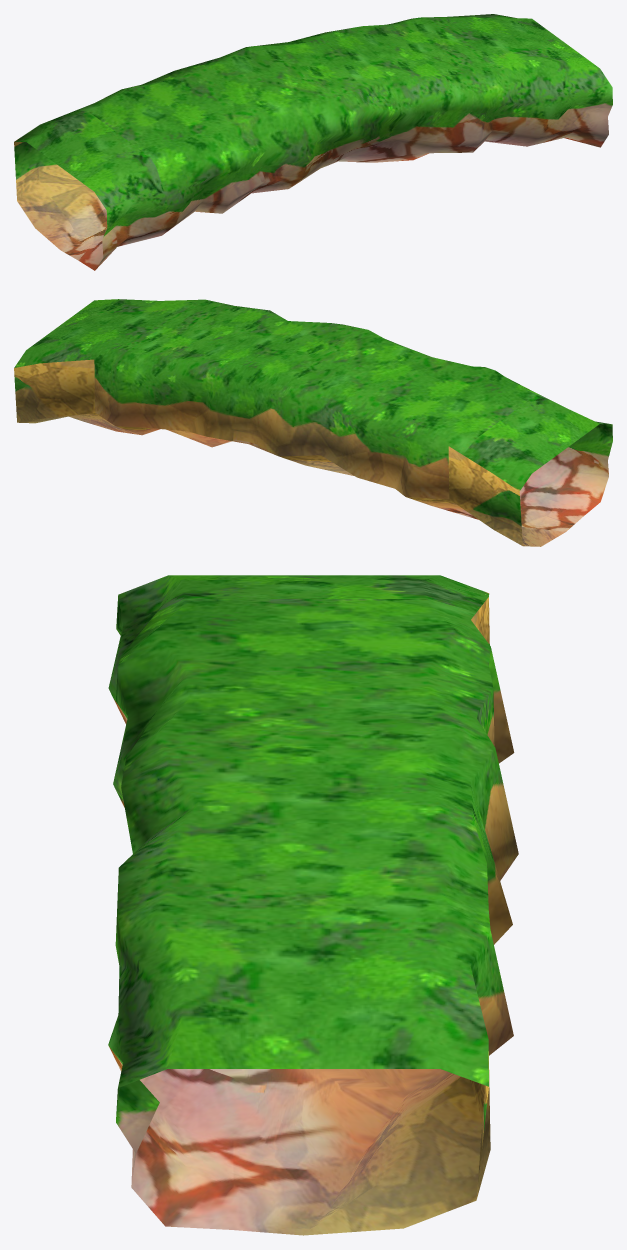
The model's file is UpHillSeg.FBX.
The picture shows the model from 3 angles, top to bottom: view 1: azimuth 30°, elevation 25°; view 2: azimuth 150°, elevation 25°; view 3: azimuth 270°, elevation 25°; orthographic projection. The views are drawn at different scales.
Parts seen in each view (by area): view 1: Object014; view 2: Object014; view 3: Object014.
Boxes of the visible parts, x1=… form: Object014: x1=14, y1=14, x2=612, y2=270; Object014: x1=14, y1=299, x2=612, y2=546; Object014: x1=108, y1=575, x2=518, y2=1235.
Size of the model in its own units: 47.06 by 10.68 by 16.55.
